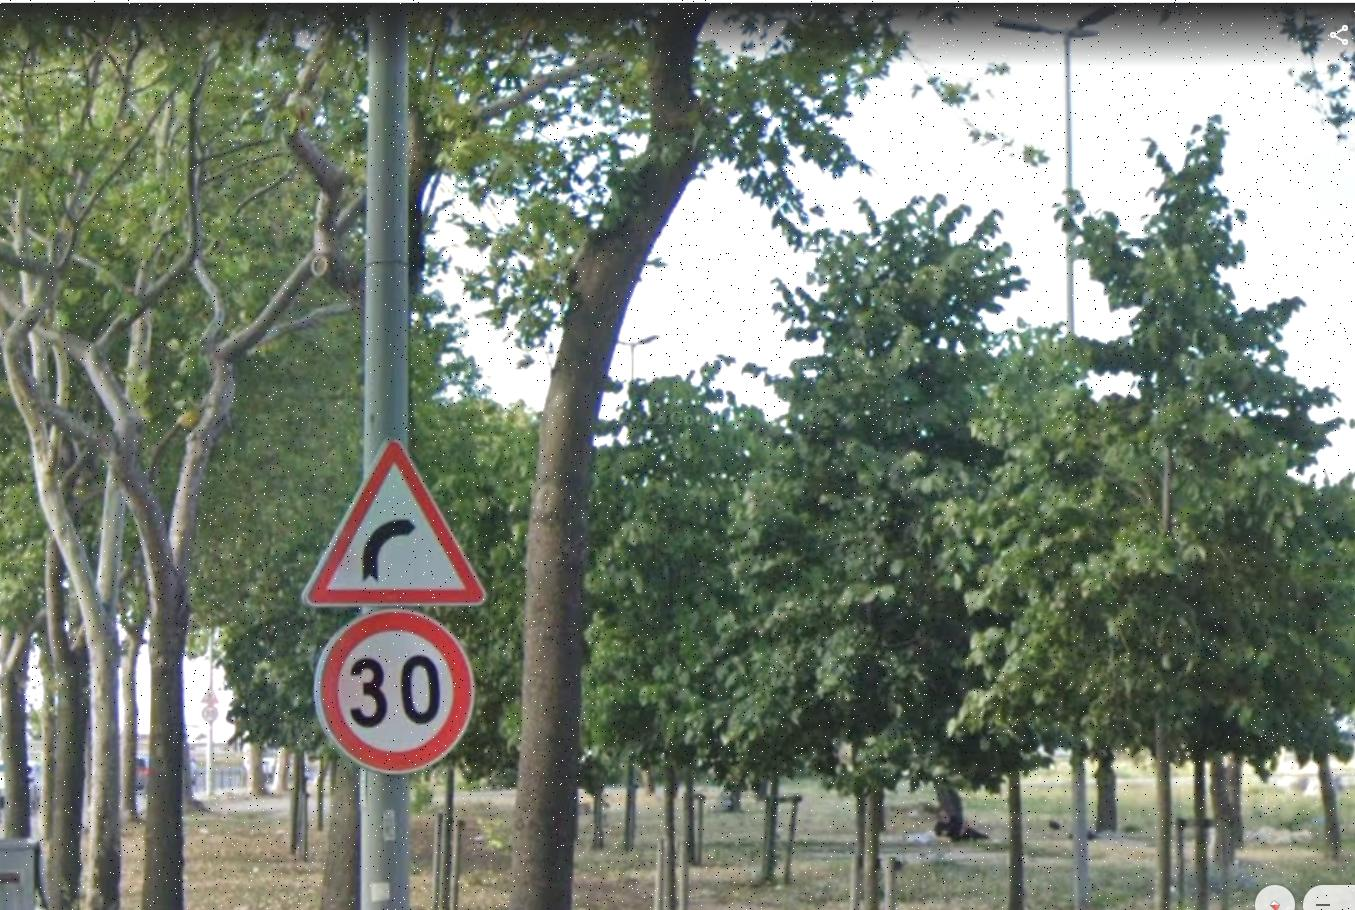turnright: (311, 439, 487, 605)
